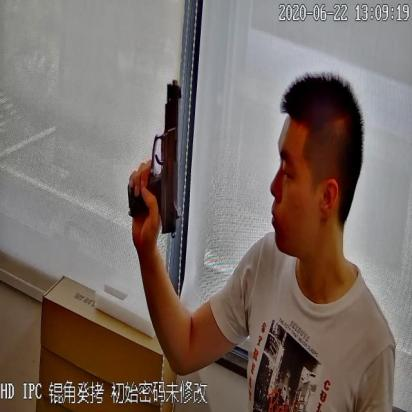Gun: (127, 78, 184, 239)
